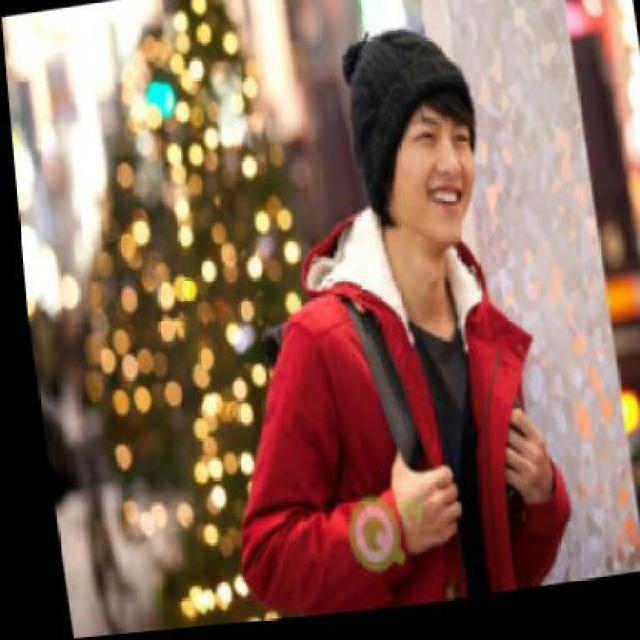hat: (330, 22, 484, 241)
